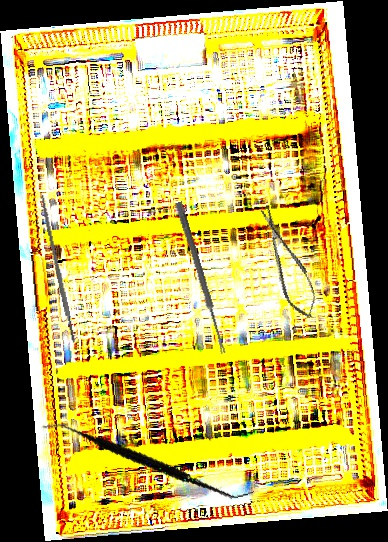Micro Scissor: (254, 202, 322, 323)
Scalpel Handle: (38, 194, 77, 344)
Spatula Surgical: (40, 387, 255, 532)
Surgical Spoon: (174, 201, 228, 355)
